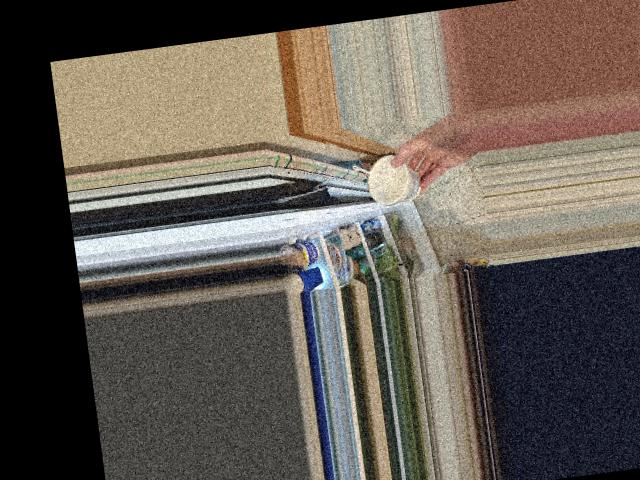cotage: (360, 155, 422, 205)
